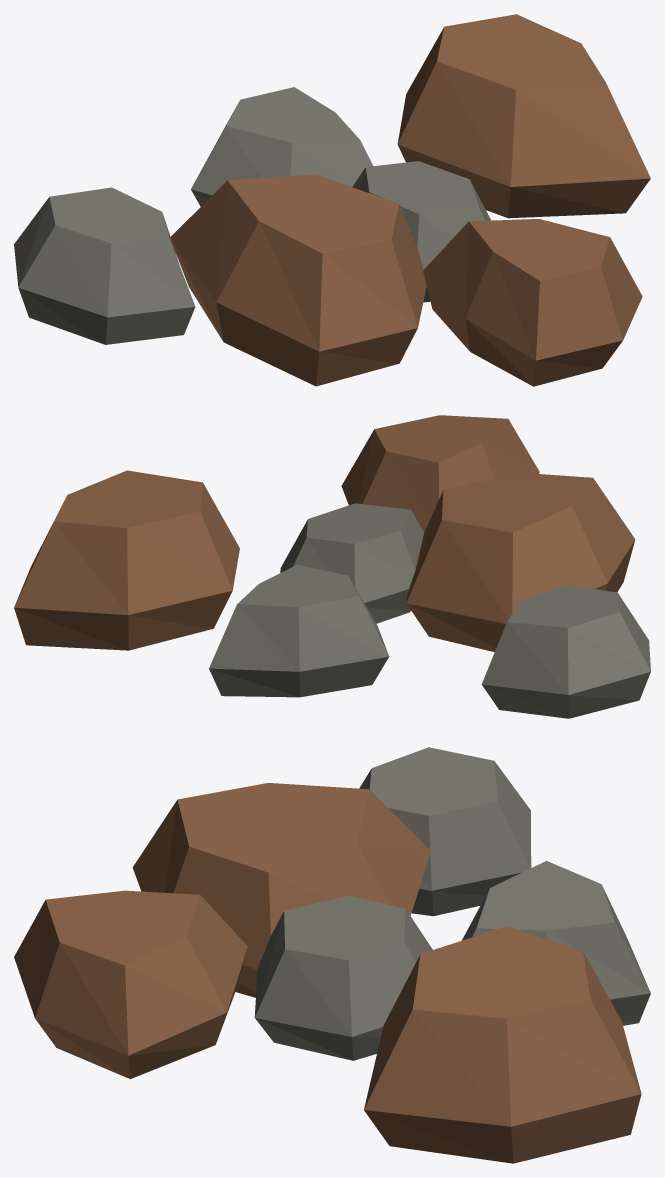
Rendered from rock_pebble_cluster_b.glb.
The picture shows the model from 3 angles, top to bottom: view 1: azimuth 30°, elevation 25°; view 2: azimuth 150°, elevation 25°; view 3: azimuth 270°, elevation 25°; orthographic projection. The views are drawn at different scales.
Visible parts, largest first — view 1: rock_pebble_cluster_b_LOD0_stone; view 2: rock_pebble_cluster_b_LOD0_stone; view 3: rock_pebble_cluster_b_LOD0_stone.
Part boxes in pixels (x1,y1,x2,y2): rock_pebble_cluster_b_LOD0_stone: [14, 14, 650, 386]; rock_pebble_cluster_b_LOD0_stone: [14, 415, 650, 718]; rock_pebble_cluster_b_LOD0_stone: [14, 747, 650, 1163].
Bounding box in the file's own units: 0.799 × 0.1727 × 0.6581.
